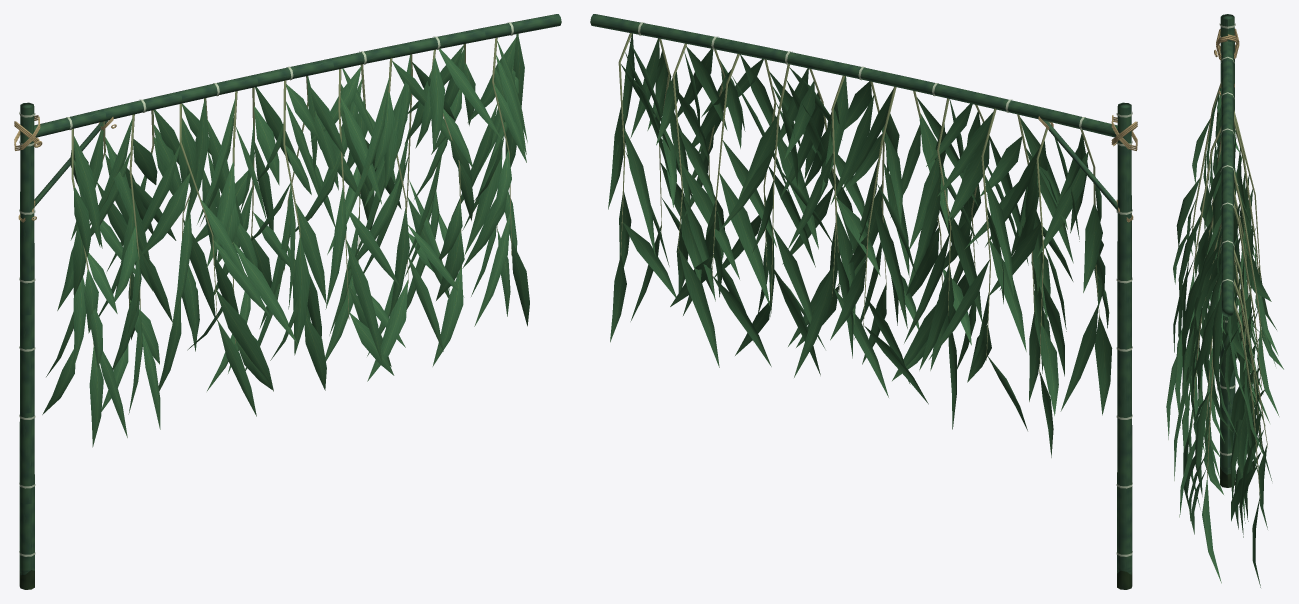
The model's file is nyanisyarud-bamboo-sasa-cantilever-a.glb.
3 views of the same model, side by side, from view 1: azimuth 30°, elevation 25°; view 2: azimuth 150°, elevation 25°; view 3: azimuth 270°, elevation 25° (orthographic). The views are drawn at different scales.
Visible parts, largest first — view 1: Silken bamboo leaves, Jade bamboo, Slender hanging twigs; view 2: Silken bamboo leaves, Jade bamboo, Slender hanging twigs; view 3: Silken bamboo leaves, Jade bamboo, Slender hanging twigs, Natural hemp lashings, Pale bamboo node rings, Soil stained bamboo base.
Boxes of the visible parts, x1,y1,x2,y2 form: Silken bamboo leaves: (42, 34, 529, 447); Jade bamboo: (19, 14, 561, 575); Slender hanging twigs: (71, 34, 518, 345); Silken bamboo leaves: (608, 33, 1112, 457); Jade bamboo: (590, 14, 1132, 574); Slender hanging twigs: (618, 33, 1099, 375); Silken bamboo leaves: (1166, 88, 1283, 587); Jade bamboo: (1220, 14, 1235, 474); Slender hanging twigs: (1188, 81, 1267, 498); Natural hemp lashings: (1214, 28, 1239, 95); Pale bamboo node rings: (1219, 23, 1235, 455); Soil stained bamboo base: (1220, 466, 1235, 487).
Size of the model in its own units: 5.32 by 4.5 by 1.03.
Materials: 6 (4 with a texture image).
